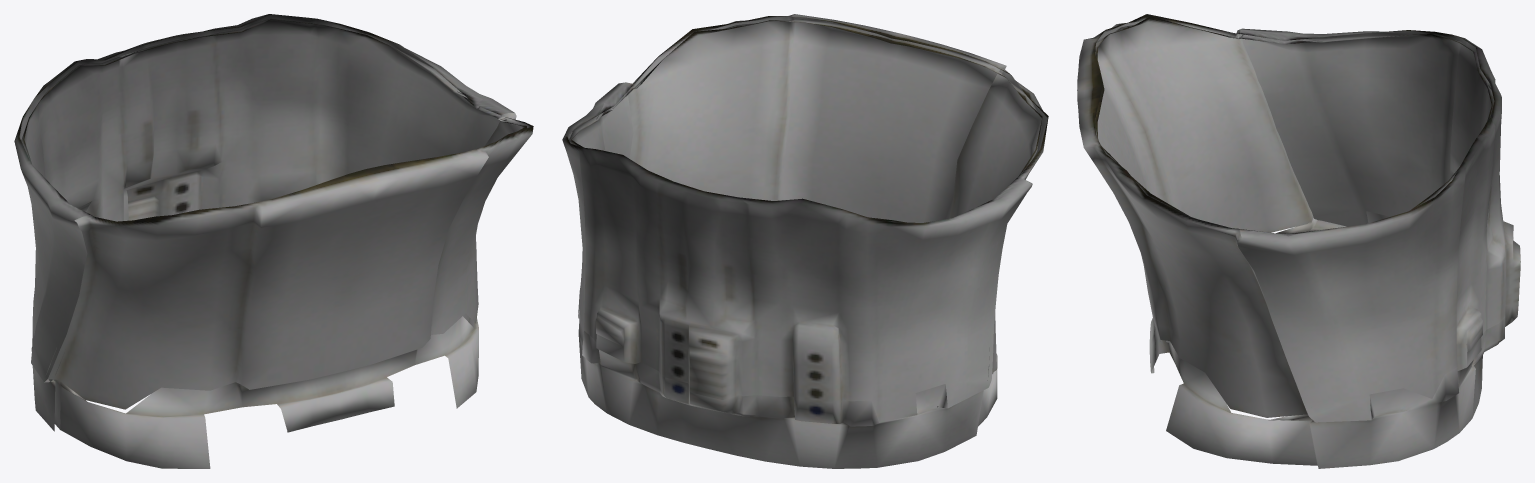
Rendered from Stormtrooper_AbdominalPlate.fbx.
3 renders of one model, left to right at view 1: azimuth 30°, elevation 25°; view 2: azimuth 150°, elevation 25°; view 3: azimuth 270°, elevation 25°, orthographic. The views are drawn at different scales.
Visible parts, largest first — view 1: Abdominal plate; view 2: Abdominal plate; view 3: Abdominal plate.
Part boxes in pixels (x1=…): Abdominal plate: x1=14, y1=14, x2=533, y2=468; Abdominal plate: x1=562, y1=14, x2=1048, y2=468; Abdominal plate: x1=1077, y1=14, x2=1520, y2=468.
Bounding box in the file's own units: 0.4474 × 0.2874 × 0.3976.
